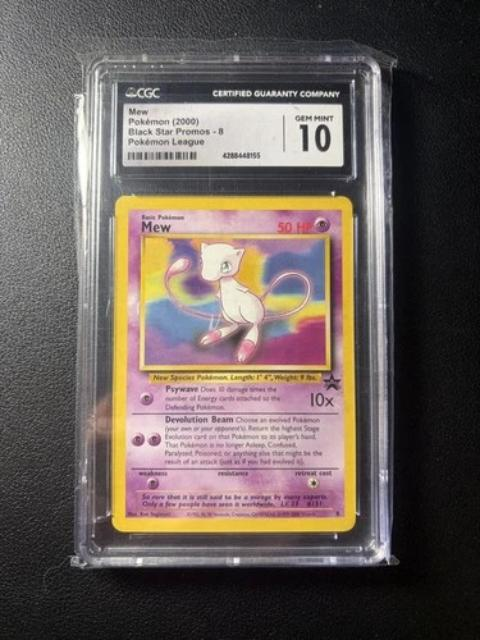Card: (106, 192, 359, 536)
Name: (136, 215, 174, 237)
